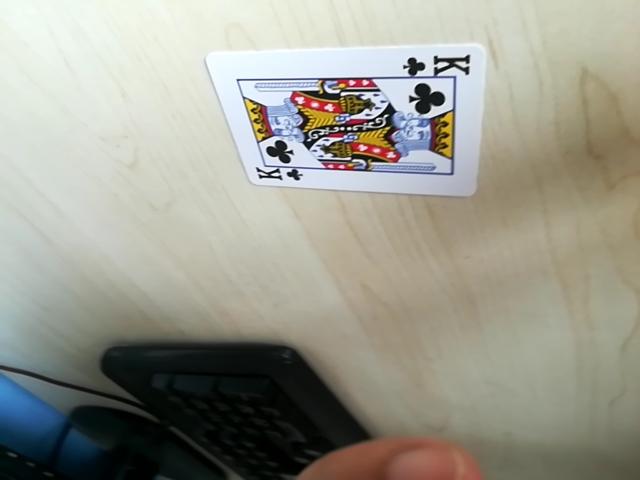mh k: (409, 52, 474, 78), (249, 162, 304, 186)
